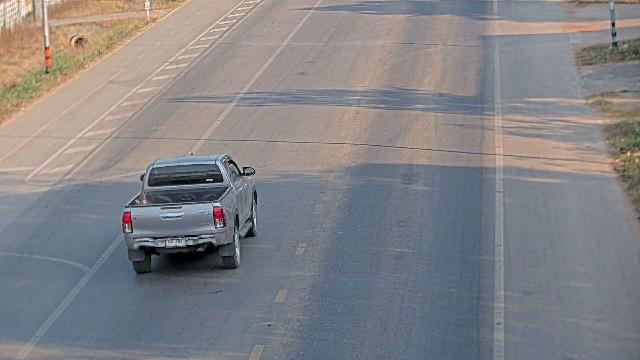pickup-truck: (121, 153, 258, 274)
